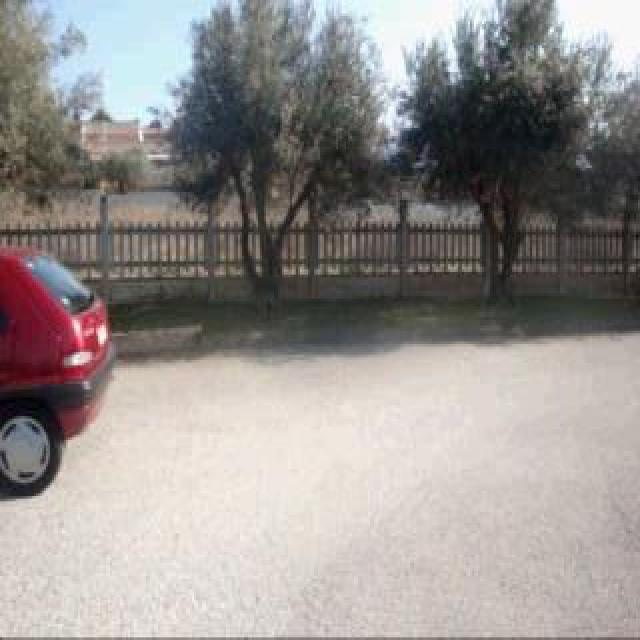other: (3, 228, 122, 506)
